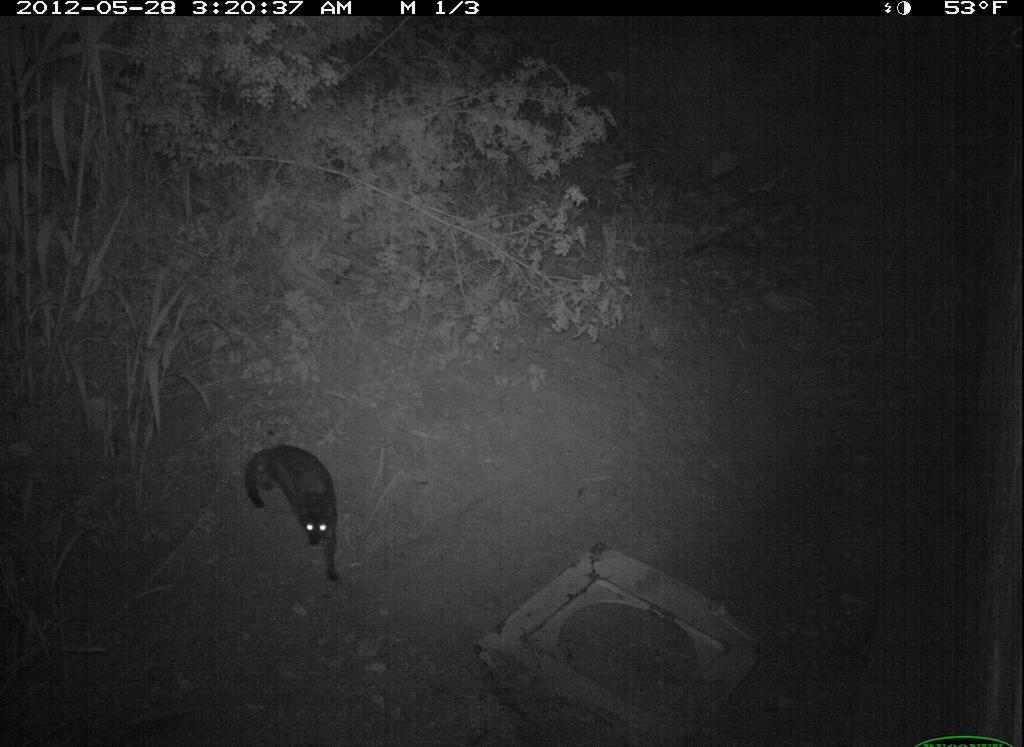cat: (237, 438, 348, 591)
